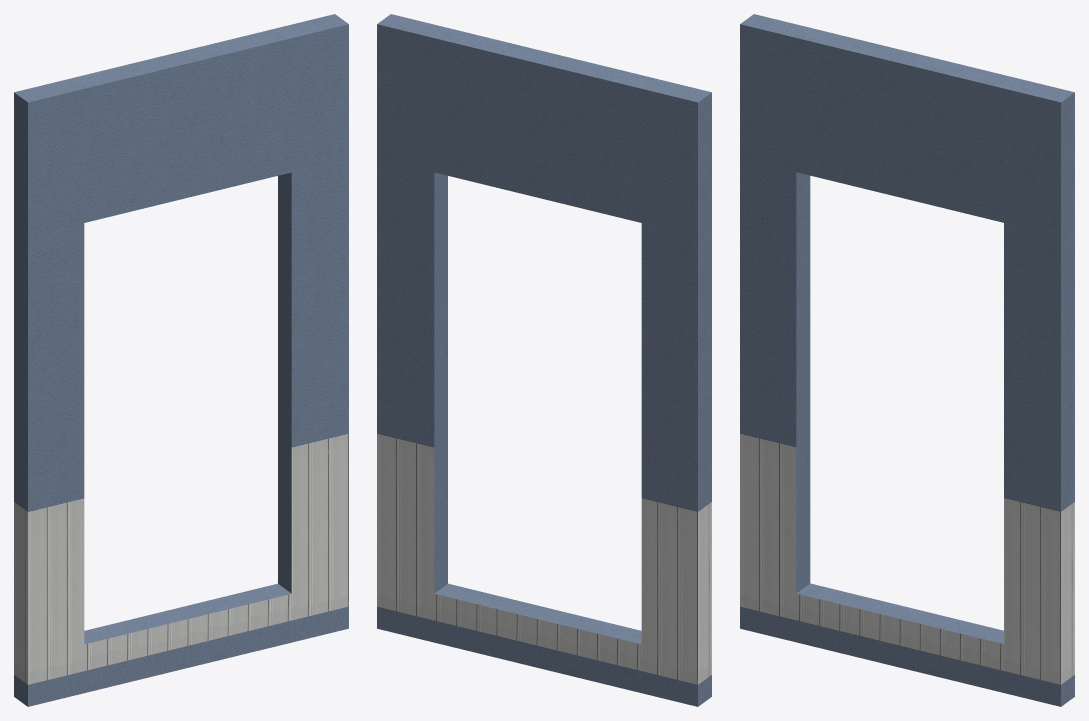
File: ARC0210042.fbx
The picture shows the model from 3 angles, left to right: view 1: azimuth 30°, elevation 25°; view 2: azimuth 150°, elevation 25°; view 3: azimuth 330°, elevation 25°; orthographic projection.
Visible parts, largest first — view 1: smARC0210042; view 2: smARC0210042; view 3: smARC0210042.
Part boxes in pixels (box(x1,y1,x2,y2)): smARC0210042: box(14, 14, 348, 706); smARC0210042: box(377, 14, 711, 706); smARC0210042: box(740, 14, 1074, 706).
Size of the model in its own units: 182 by 328 by 13.67.
1 material, 1 textured.
